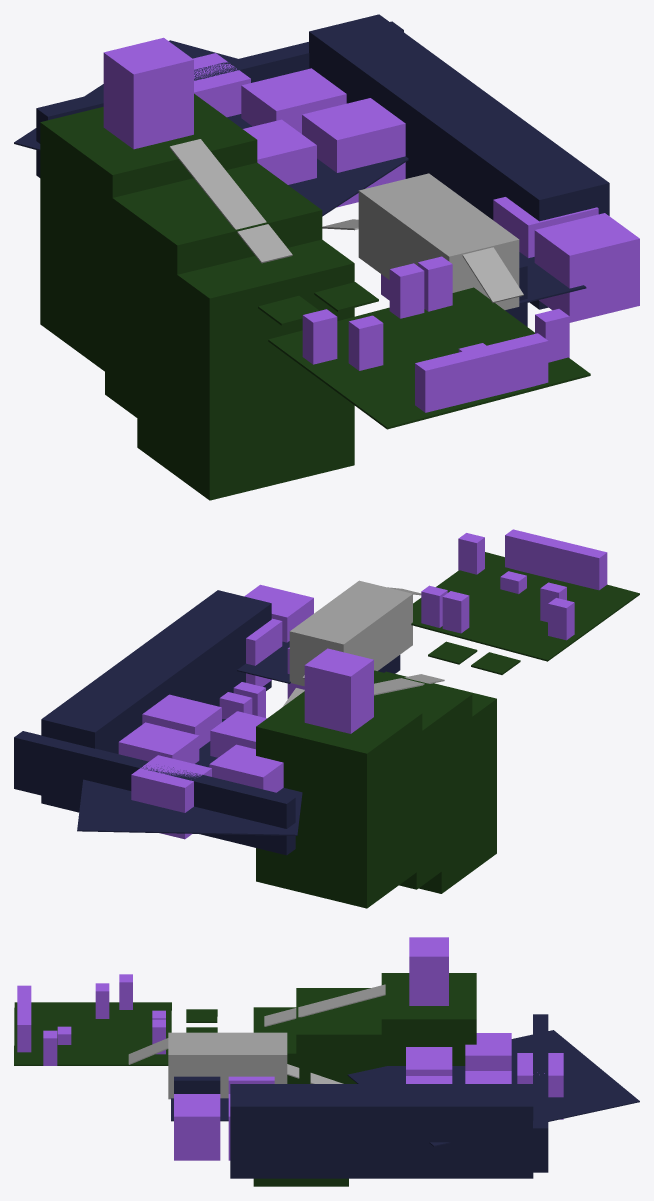
Rendered from map1.fbx.
The picture shows the model from 3 angles, top to bottom: view 1: azimuth 30°, elevation 25°; view 2: azimuth 150°, elevation 25°; view 3: azimuth 270°, elevation 25°; orthographic projection. The views are drawn at different scales.
Parts seen in each view (by area): view 1: pCube35; view 2: pCube35; view 3: pCube35.
Boxes of the visible parts, x1,y1,x2,y2 form: pCube35: [14, 14, 639, 500]; pCube35: [14, 529, 639, 908]; pCube35: [14, 937, 639, 1186].
Bounding box in the file's own units: 132 × 101 × 264.
